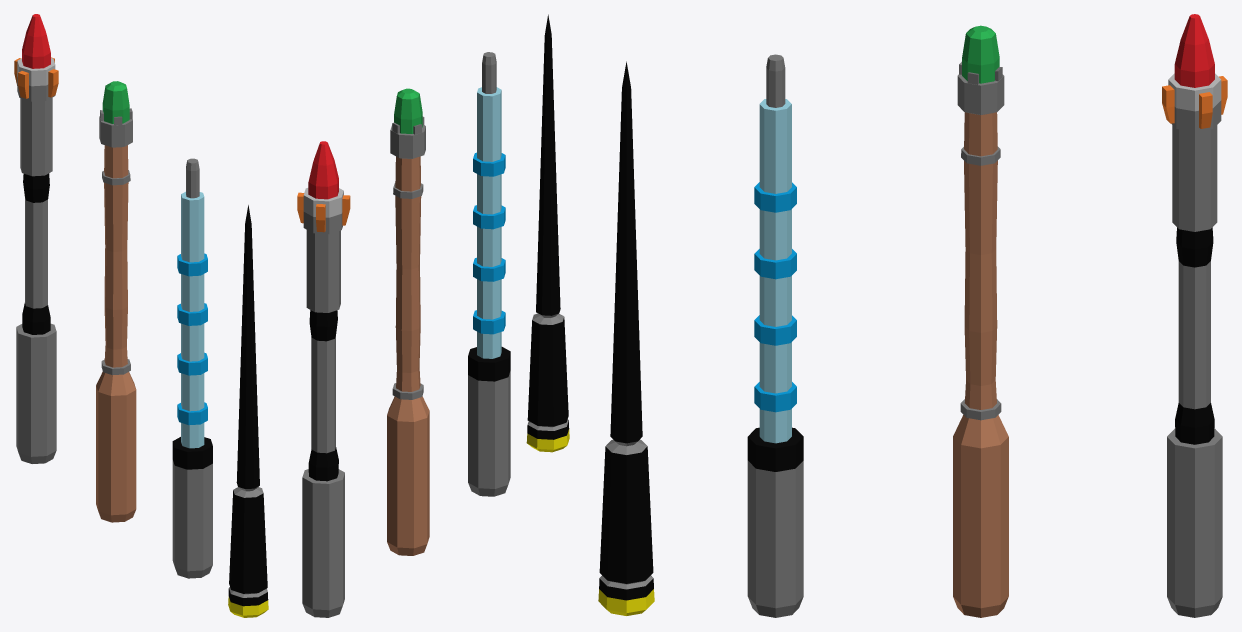
File: wands.fbx
The picture shows the model from 3 angles, left to right: view 1: azimuth 30°, elevation 25°; view 2: azimuth 150°, elevation 25°; view 3: azimuth 270°, elevation 25°; orthographic projection. The views are drawn at different scales.
Visible parts, largest first — view 1: Cylinder.003, Cylinder.002, Cylinder, Cylinder.004; view 2: Cylinder.003, Cylinder.002, Cylinder, Cylinder.004; view 3: Cylinder.003, Cylinder.002, Cylinder, Cylinder.004.
Boxes of the visible parts, x1,y1,x2,y2 form: Cylinder.003: [14, 14, 58, 463]; Cylinder.002: [96, 81, 136, 522]; Cylinder: [172, 158, 212, 578]; Cylinder.004: [228, 205, 268, 617]; Cylinder.003: [297, 141, 350, 617]; Cylinder.002: [387, 88, 429, 555]; Cylinder: [468, 52, 510, 496]; Cylinder.004: [526, 14, 569, 452]; Cylinder.003: [1162, 14, 1227, 617]; Cylinder.002: [953, 25, 1008, 617]; Cylinder: [747, 54, 803, 617]; Cylinder.004: [598, 61, 654, 615].
Bounding box in the file's own units: 234 × 2336 × 2251.
